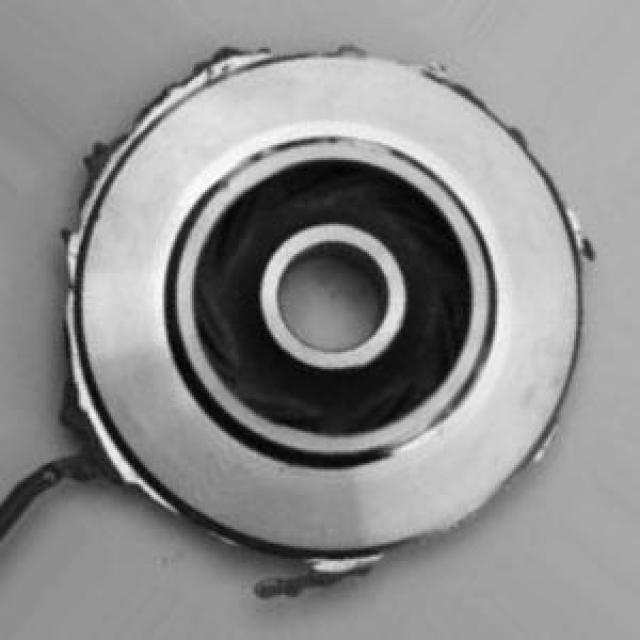Defect: (165, 49, 274, 75)
